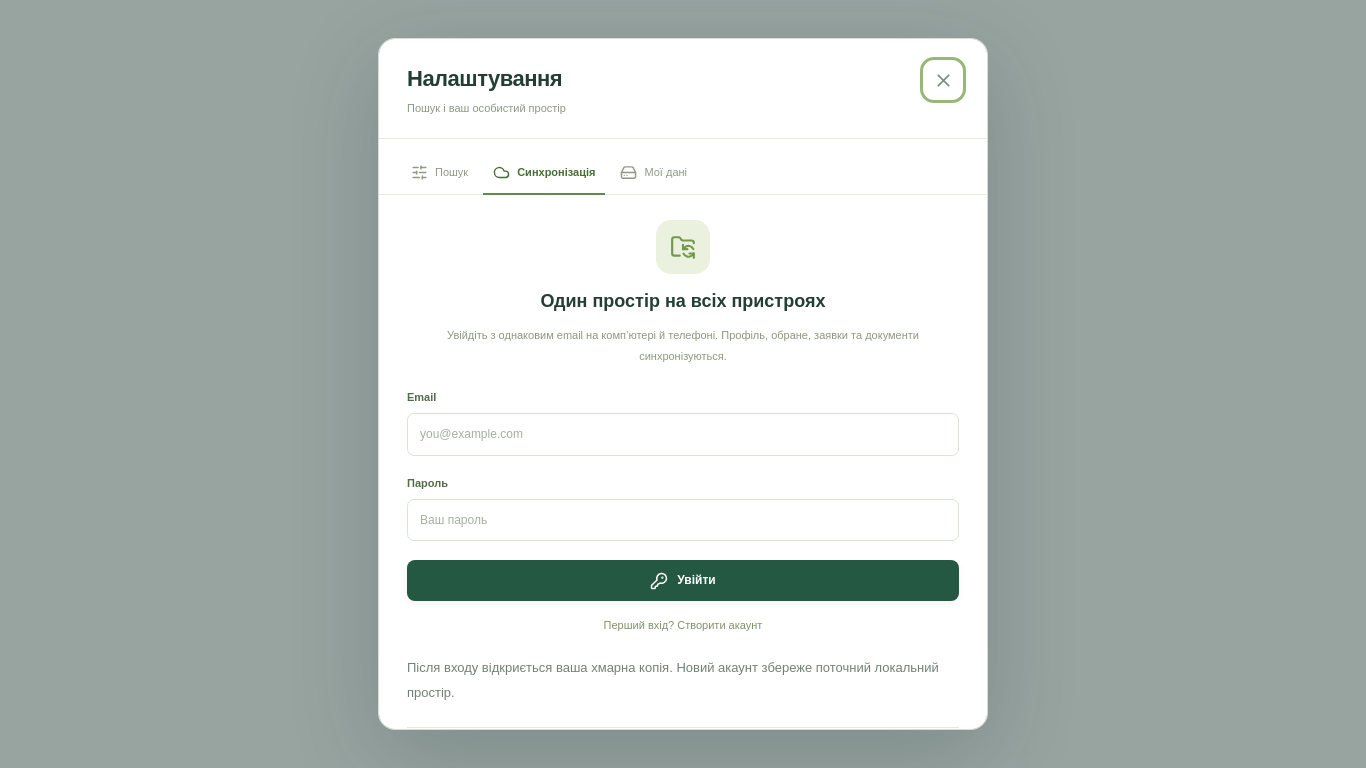
Test: blocks submission when registration requirements are unavailable and permits refresh
Click the button with class "switch-auth": [683, 626] box [598,616,768,635]
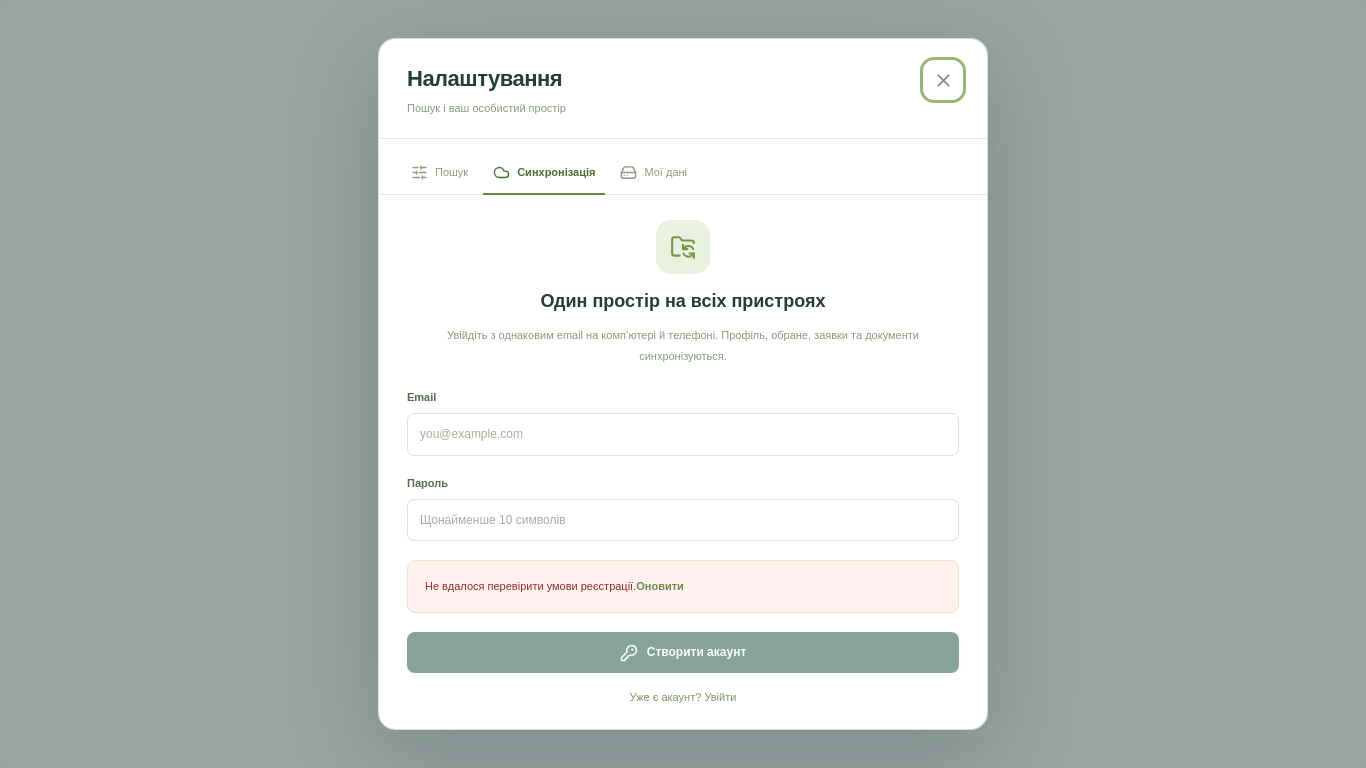
Result: the button "Створити акаунт" is disabled at [407,632,959,673]
Result: the message "Не вдалося перевірити умови реєстрації. Оновити" is shown at [407,560,959,613]
Click the button "Оновити": [660, 587] box [636,576,684,597]
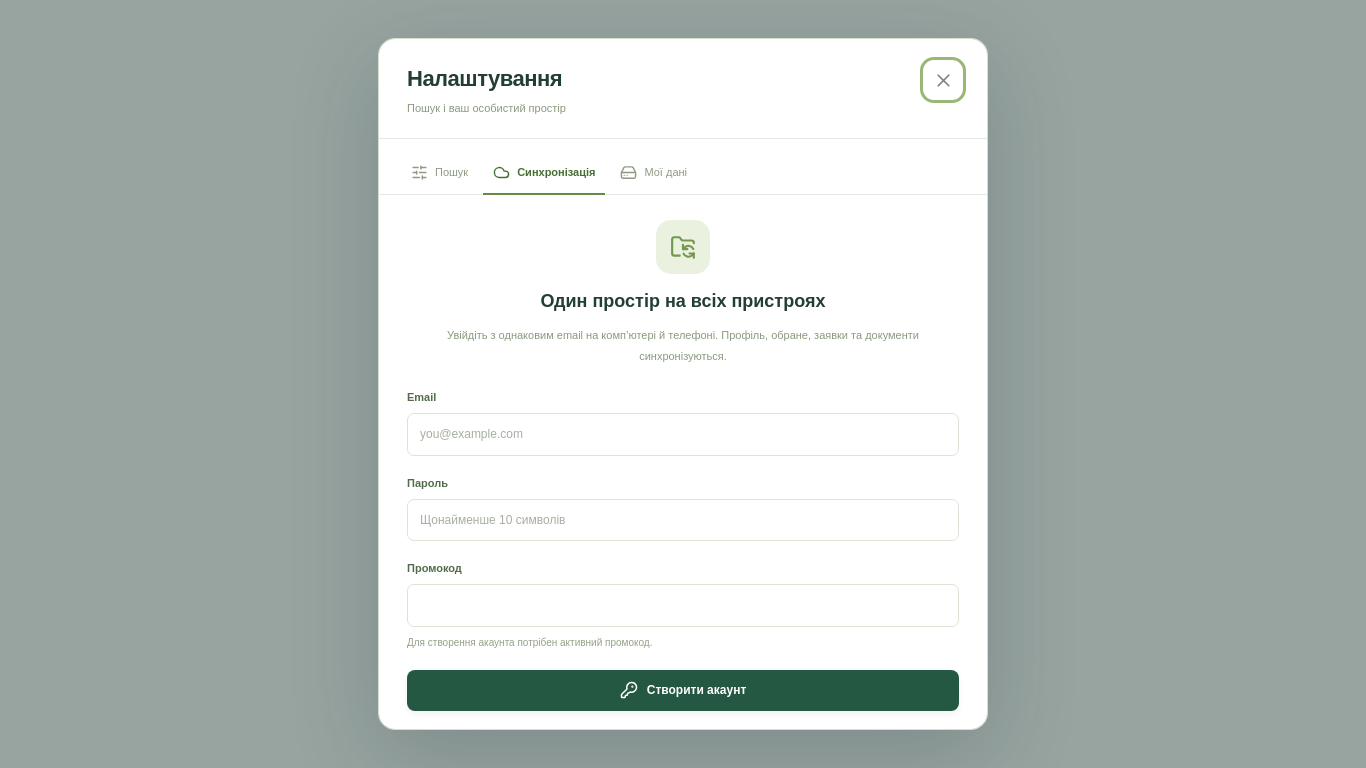
Result: the button "Створити акаунт" is enabled at [407,670,959,711]
